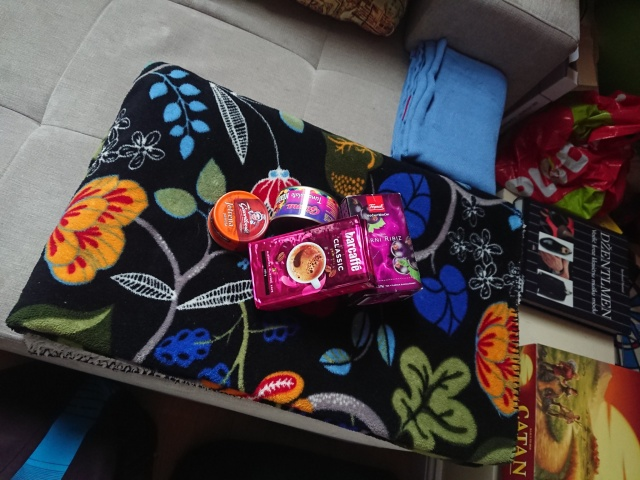Barcaffe Classic Original 225g: (246, 212, 378, 313)
Franck Black Currant Tea 60g: (334, 189, 426, 309)
Gavrilovic Pork Liver Pate 100g: (204, 187, 273, 255)
Giana Tuna Salad Mexico 185g: (268, 184, 342, 242)
